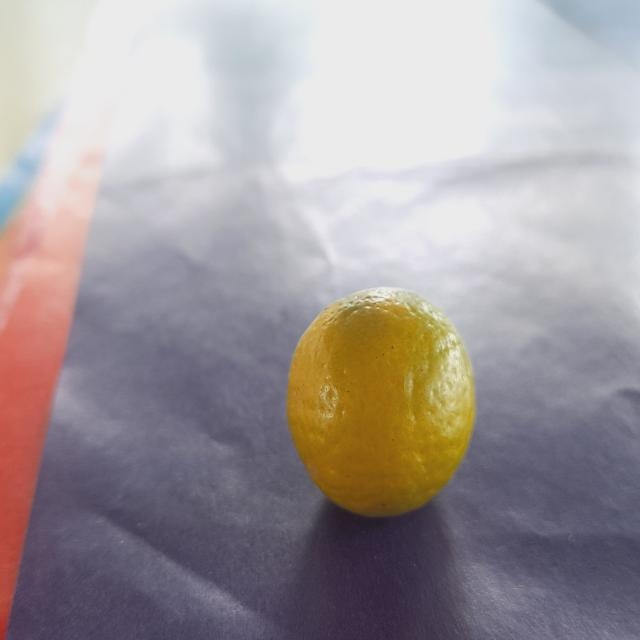greening: (267, 235, 525, 550)
